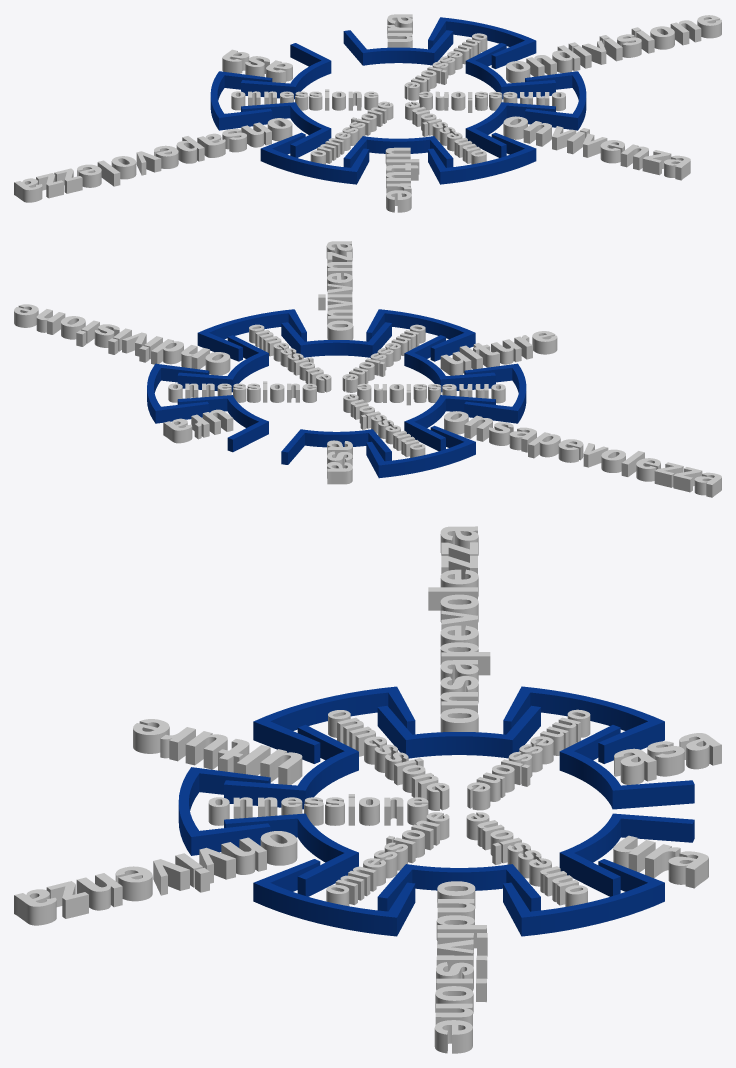
Rendered from oggetto5.obj.
The picture shows the model from 3 angles, top to bottom: view 1: azimuth 30°, elevation 25°; view 2: azimuth 150°, elevation 25°; view 3: azimuth 270°, elevation 25°; orthographic projection. The views are drawn at different scales.
Bounding box in the file's own units: 579 × 12.41 × 341.
